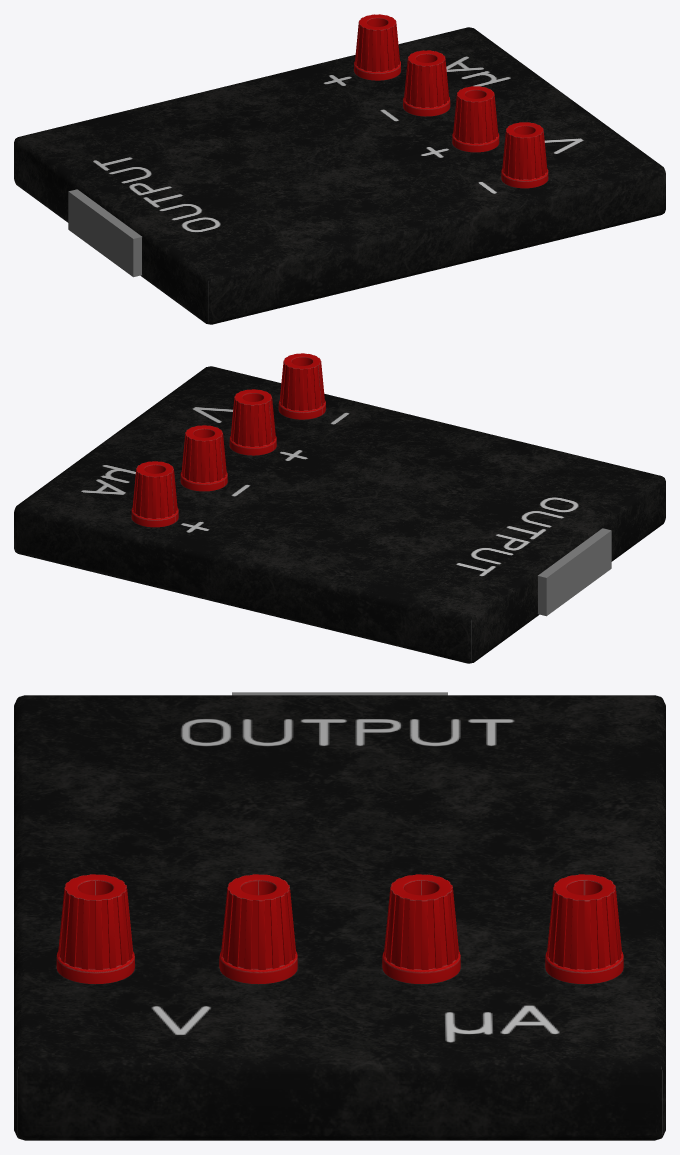
Rendered from Converter.fbx.
The picture shows the model from 3 angles, top to bottom: view 1: azimuth 30°, elevation 25°; view 2: azimuth 150°, elevation 25°; view 3: azimuth 270°, elevation 25°; orthographic projection. The views are drawn at different scales.
Parts seen in each view (by area): view 1: Converter.002, Conv socket.002, Output.002; view 2: Converter.002, Conv socket.002, Output.002; view 3: Converter.002, Conv socket.002, Output.002.
Boxes of the visible parts, x1=… form: Converter.002: x1=14, y1=27, x2=665, y2=324; Conv socket.002: x1=354, y1=14, x2=548, y2=188; Output.002: x1=68, y1=189, x2=141, y2=277; Converter.002: x1=14, y1=366, x2=665, y2=663; Conv socket.002: x1=131, y1=353, x2=325, y2=527; Output.002: x1=538, y1=528, x2=611, y2=616; Converter.002: x1=14, y1=695, x2=665, y2=1140; Conv socket.002: x1=56, y1=874, x2=623, y2=984; Output.002: x1=232, y1=692, x2=447, y2=695.
Size of the model in its own units: 204 by 40.23 by 148.
